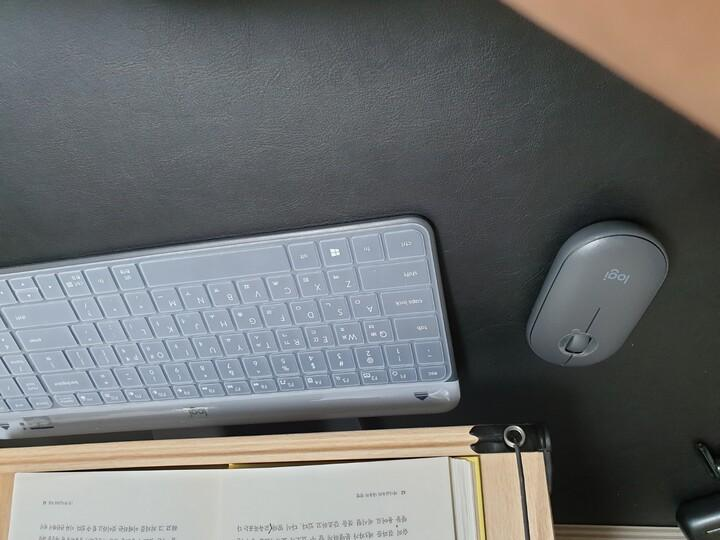keyboard: (0, 213, 461, 442)
mouse: (524, 218, 669, 368)
